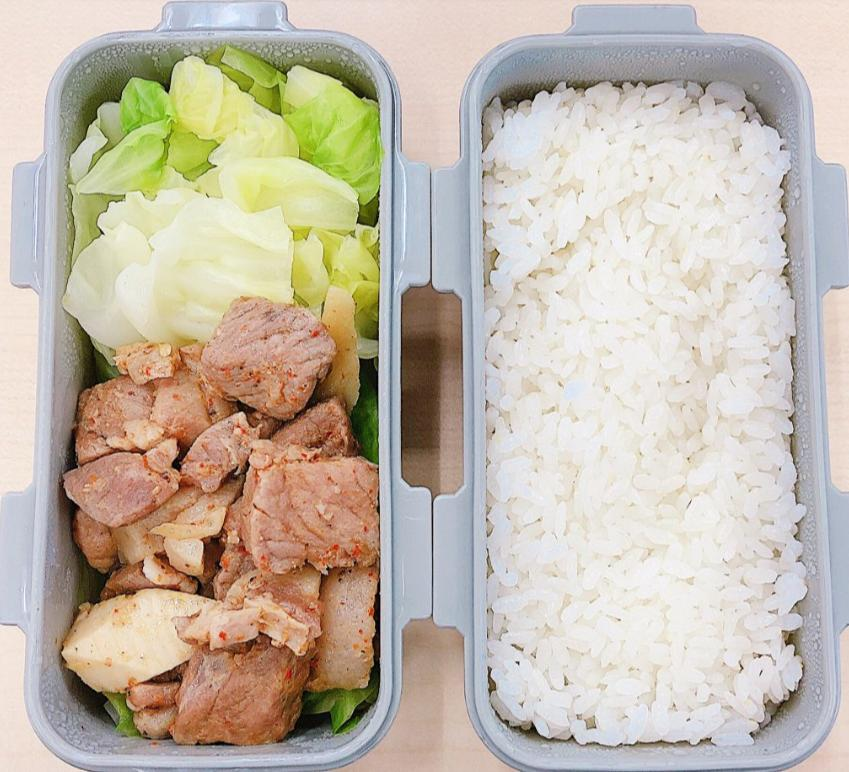buah_sayur_lainnya: (102, 94, 360, 283)
daging: (81, 363, 372, 686)
makanan_berpati: (501, 106, 776, 708)
